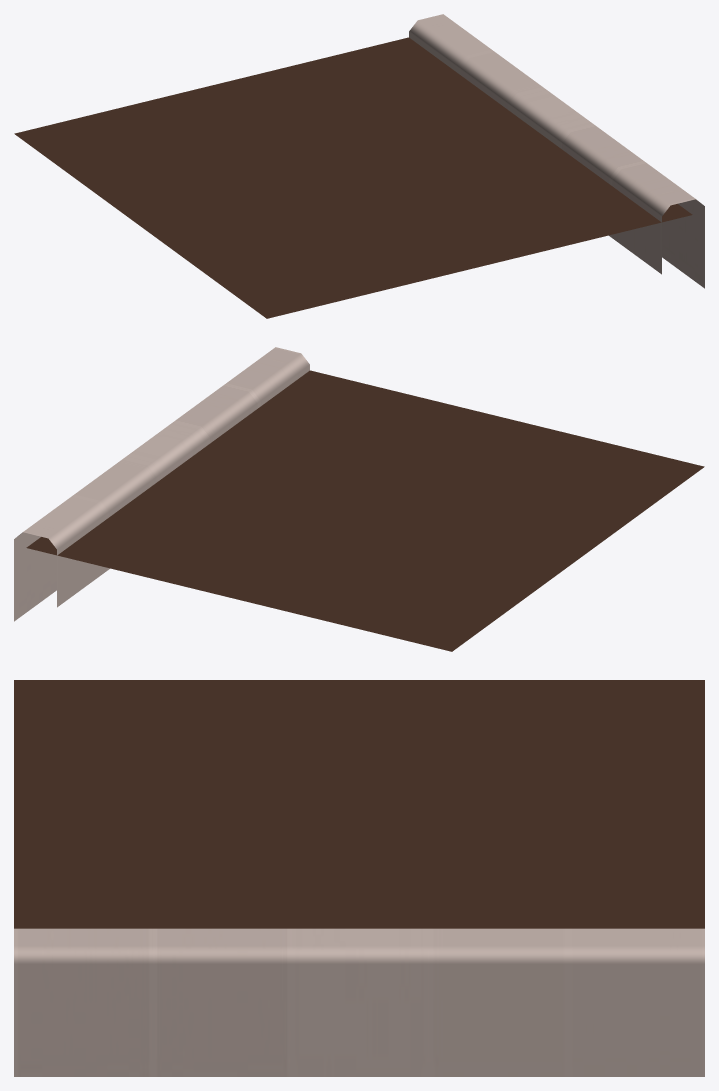
Rendered from GardenBed_Modular_2m_Mid_OneSided.fbx.
The picture shows the model from 3 angles, top to bottom: view 1: azimuth 30°, elevation 25°; view 2: azimuth 150°, elevation 25°; view 3: azimuth 270°, elevation 25°; orthographic projection. The views are drawn at different scales.
Visible parts, largest first — view 1: GardenBed_Modular_2m_Mid_OneSided; view 2: GardenBed_Modular_2m_Mid_OneSided; view 3: GardenBed_Modular_2m_Mid_OneSided.
Part boxes in pixels (x1,y1,x2,y2): GardenBed_Modular_2m_Mid_OneSided: (14, 14, 704, 318); GardenBed_Modular_2m_Mid_OneSided: (14, 347, 704, 651); GardenBed_Modular_2m_Mid_OneSided: (14, 680, 704, 1076).
Bounding box in the file's own units: 200 × 40 × 200.
